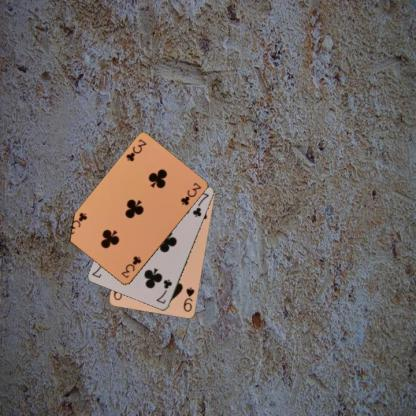3c: (118, 254, 143, 280), (124, 137, 148, 163)
7c: (154, 277, 173, 305)
9s: (181, 285, 196, 313)
